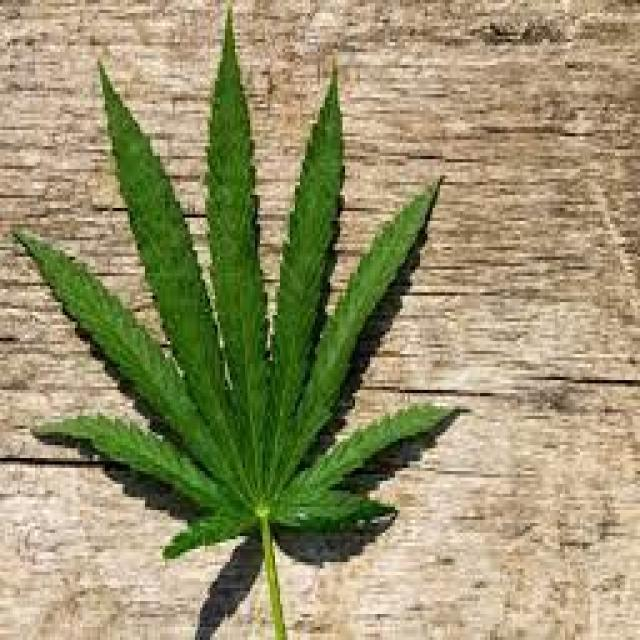cannabis: (14, 0, 462, 637)
